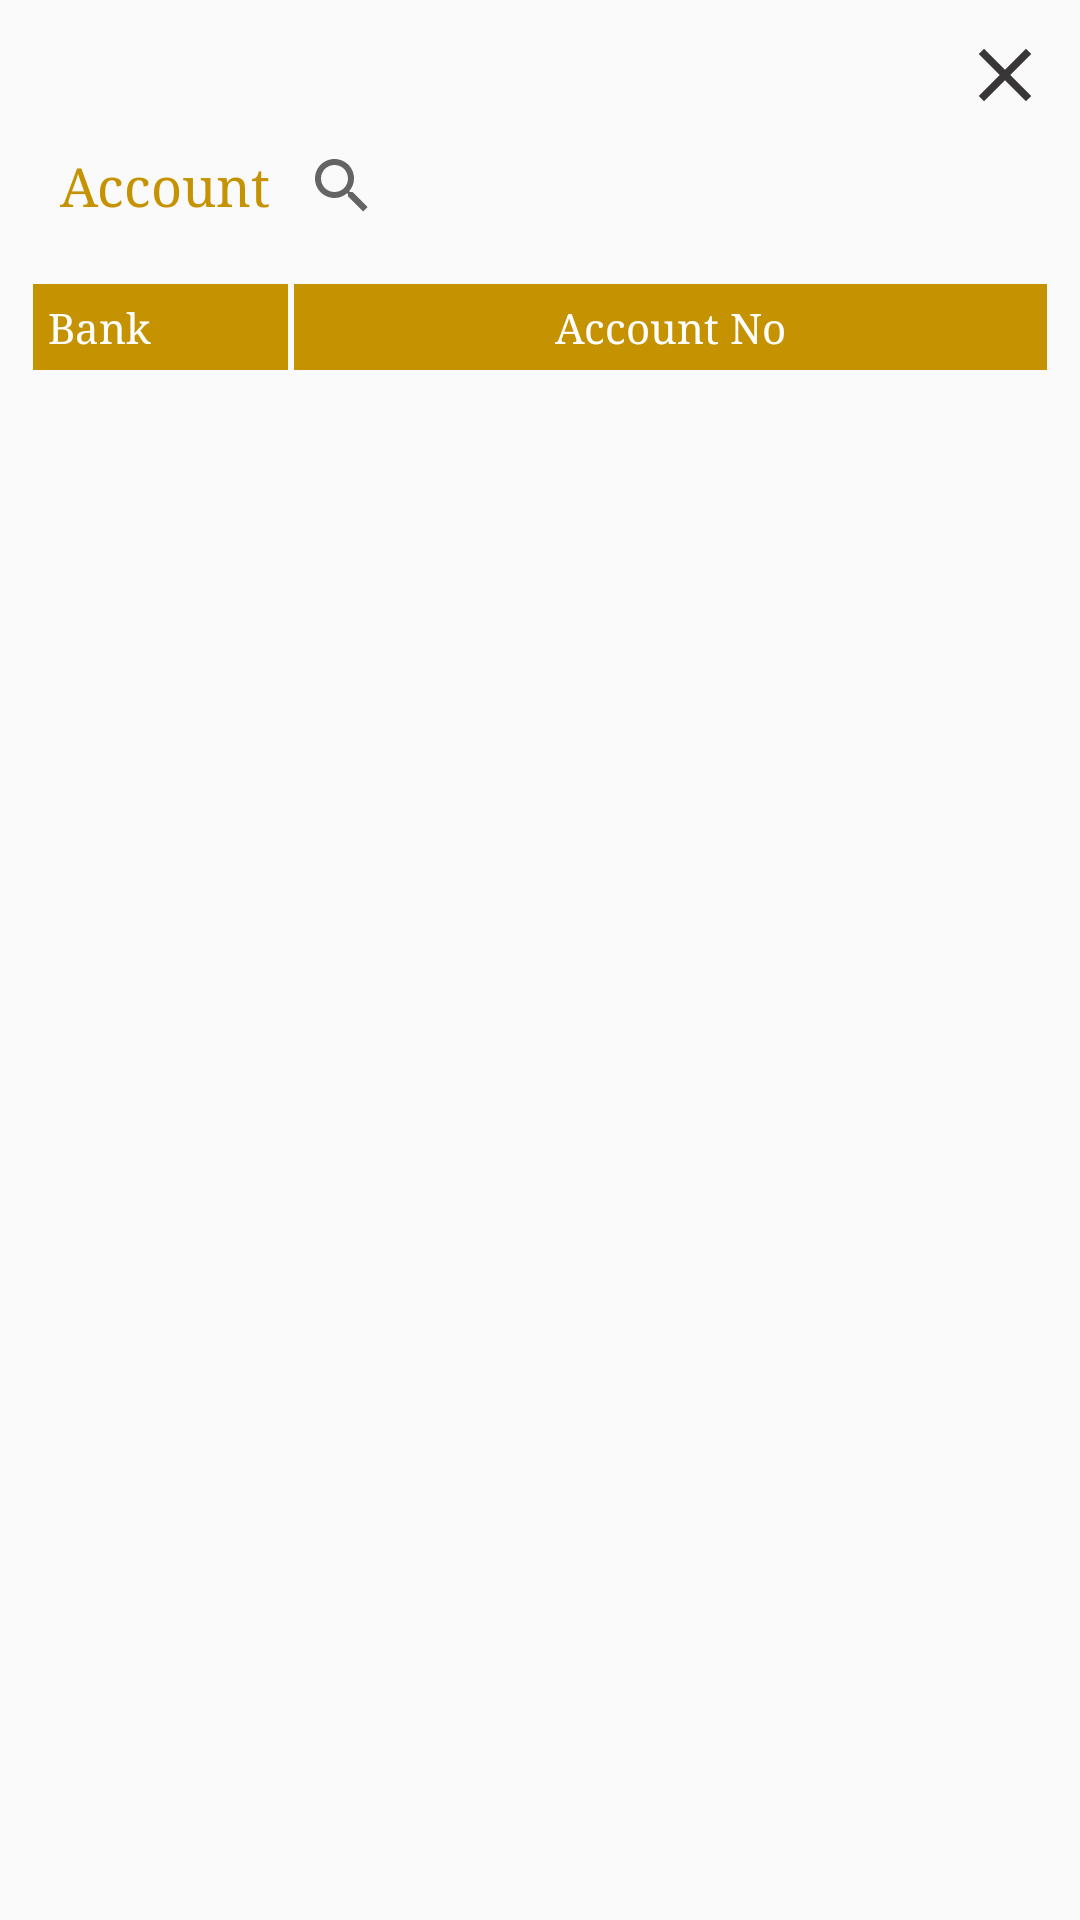

Where icons sit on this 1080×1920 app screen, as box(x1, y1, x2, y2):
close: box(979, 49, 1031, 101)
